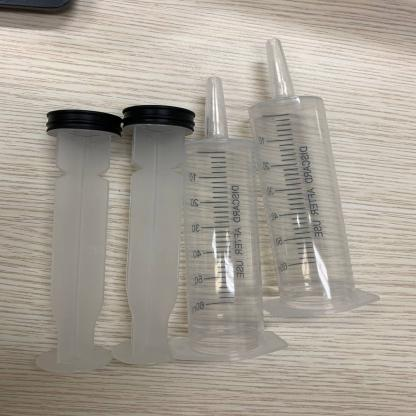dry: (236, 36, 384, 318), (184, 69, 277, 363), (18, 104, 117, 372), (116, 99, 186, 373)
